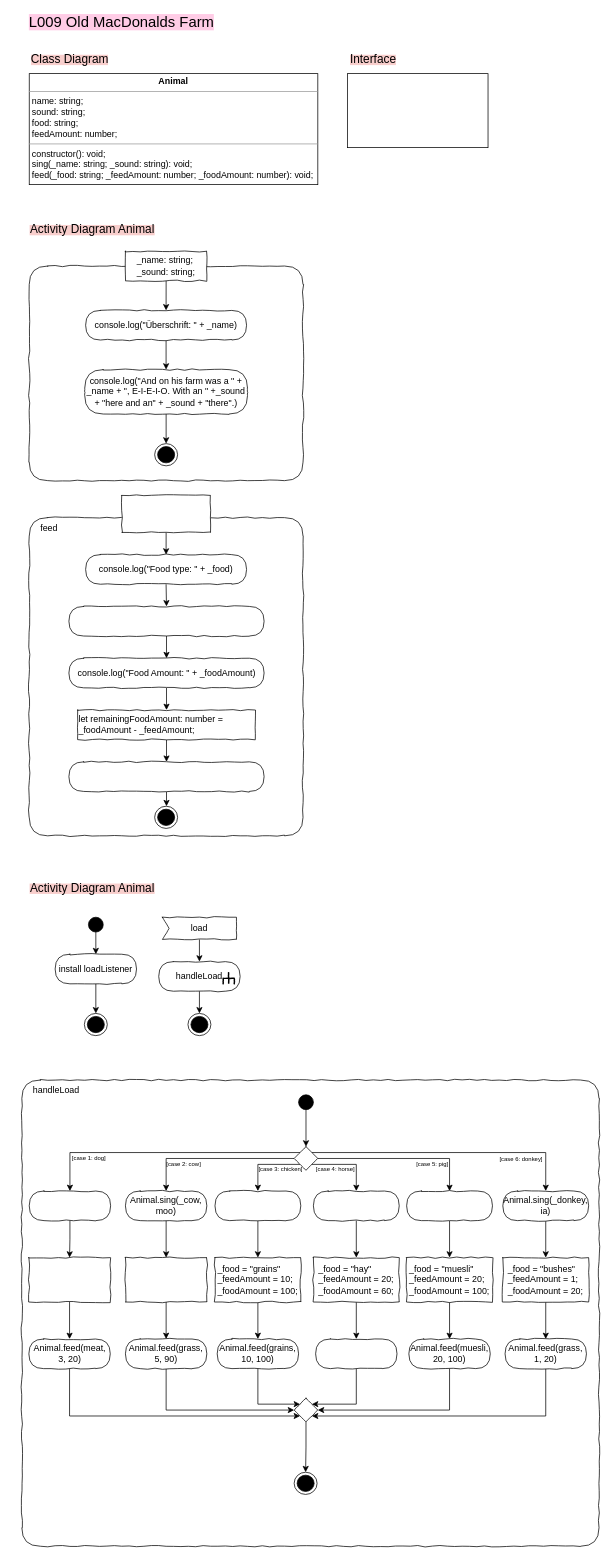
This 612x1559 diagram has some shape labels left out. The shapes that lost their labels are listed below. From the top down, each one's box as (x1, y1, x2, y2) in pixels, then its label:
(347, 73, 488, 148): <<Interface>> Food type: string; foodAmount: number;
(28, 265, 303, 481): sing
(121, 495, 211, 532): _food: string; _feedAmount: string; _foodAmount: string
(68, 606, 264, 636): console.log("Feed Amount: " + _feedAmount)
(68, 761, 264, 791): console.log("Remaining Food Amount: " + _remainingFoodAmount)
(28, 1190, 111, 1221): Animal.sing(_dog, woof)
(214, 1190, 301, 1221): Animal.sing(_chicken, gack)
(313, 1190, 399, 1221): Animal.sing(_horse, brr)
(406, 1190, 492, 1221): Animal.sing(_pig, oink)
(28, 1257, 110, 1302): _food = "meat" _feedAmount = 3; _foodAmount = 20;
(125, 1257, 207, 1302): _food = "grass" _feedAmount = 5; _foodAmount = 90;
(315, 1338, 397, 1369): Animal.feed(hay, 20, 60)
